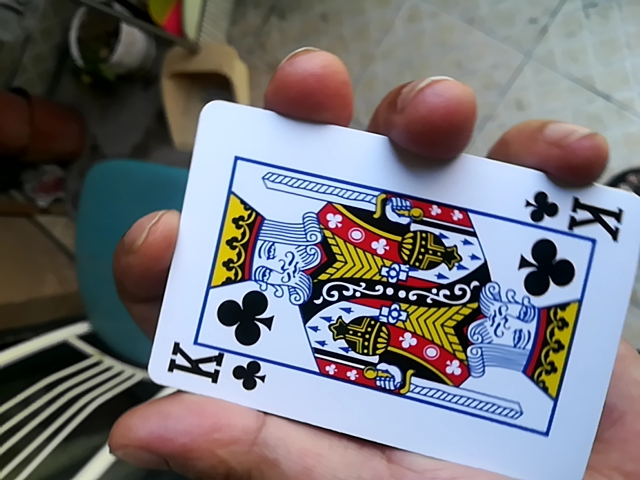mh k: (134, 101, 640, 477)
